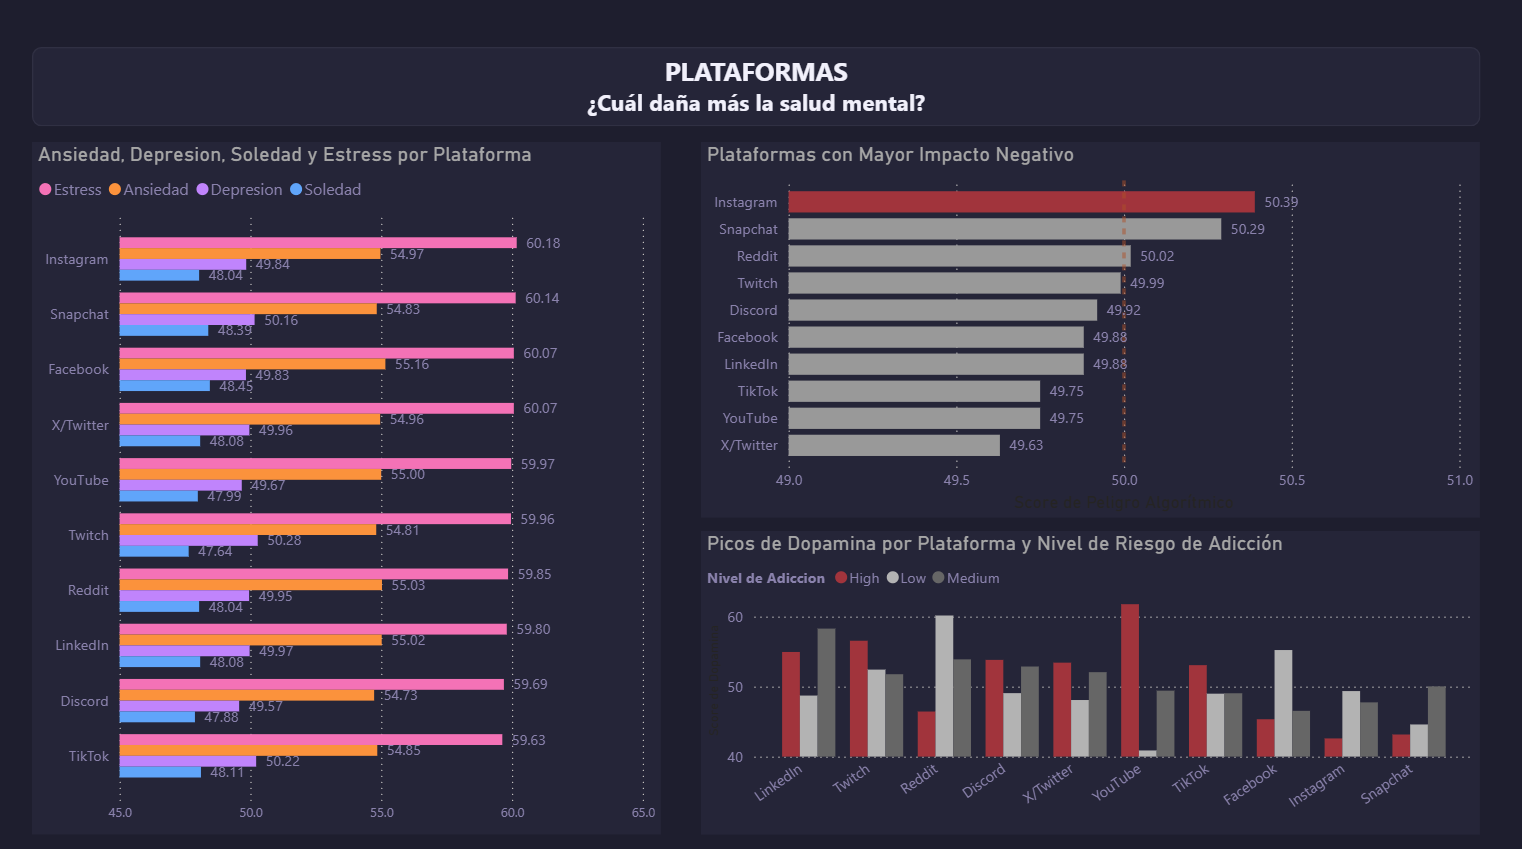

Layout of this report page (visuals, bound fields, positions):
{"tool":"powerbi","page":{"name":"P2","canvas":[1280,720],"ordinal":1},"visuals":[{"type":"shape","box":[33,46,1207,66],"z":0},{"type":"textbox","box":[33,46,1207,66],"z":1000},{"type":"clusteredBarChart","title":"Ansiedad, Depresion, Soledad y Estress por Plataforma","fields":{"Category":["Consulta1.platform"],"Y":["Sum(Consulta1.avg_stress)","Sum(Consulta1.avg_anxiety)","Sum(Consulta1.avg_depression)","Sum(Consulta1.avg_loneliness)"]},"box":[33,125,524,577],"z":2000},{"type":"clusteredBarChart","title":"Plataformas con Mayor Impacto Negativo","fields":{"Category":["ANALISIS12.platform"],"Y":["Avg(ANALISIS12.algorithmic_danger_score)"]},"box":[591,125,649,313],"z":3000},{"type":"clusteredColumnChart","title":"Picos de Dopamina por Plataforma y Nivel de Riesgo de Adicción","fields":{"Category":["ANALISIS02.platform"],"Y":["Avg(ANALISIS02.avg_dopamine_score)"],"Series":["ANALISIS02.addiction_risk_level"]},"box":[591,449,649,253],"z":4001}]}

Visuals, with their boxes in screenshot pixels (x1, y1, x2, y2), scaled from the page's 1280x720 canvas onto the 1522x849 screenshot:
shape: [39,54,1474,132]
textbox: [39,54,1474,132]
"Ansiedad, Depresion, Soledad y Estress por Plataforma" clusteredBarChart: [39,147,662,828]
"Plataformas con Mayor Impacto Negativo" clusteredBarChart: [703,147,1474,516]
"Picos de Dopamina por Plataforma y Nivel de Riesgo de Adicción" clusteredColumnChart: [703,529,1474,828]
